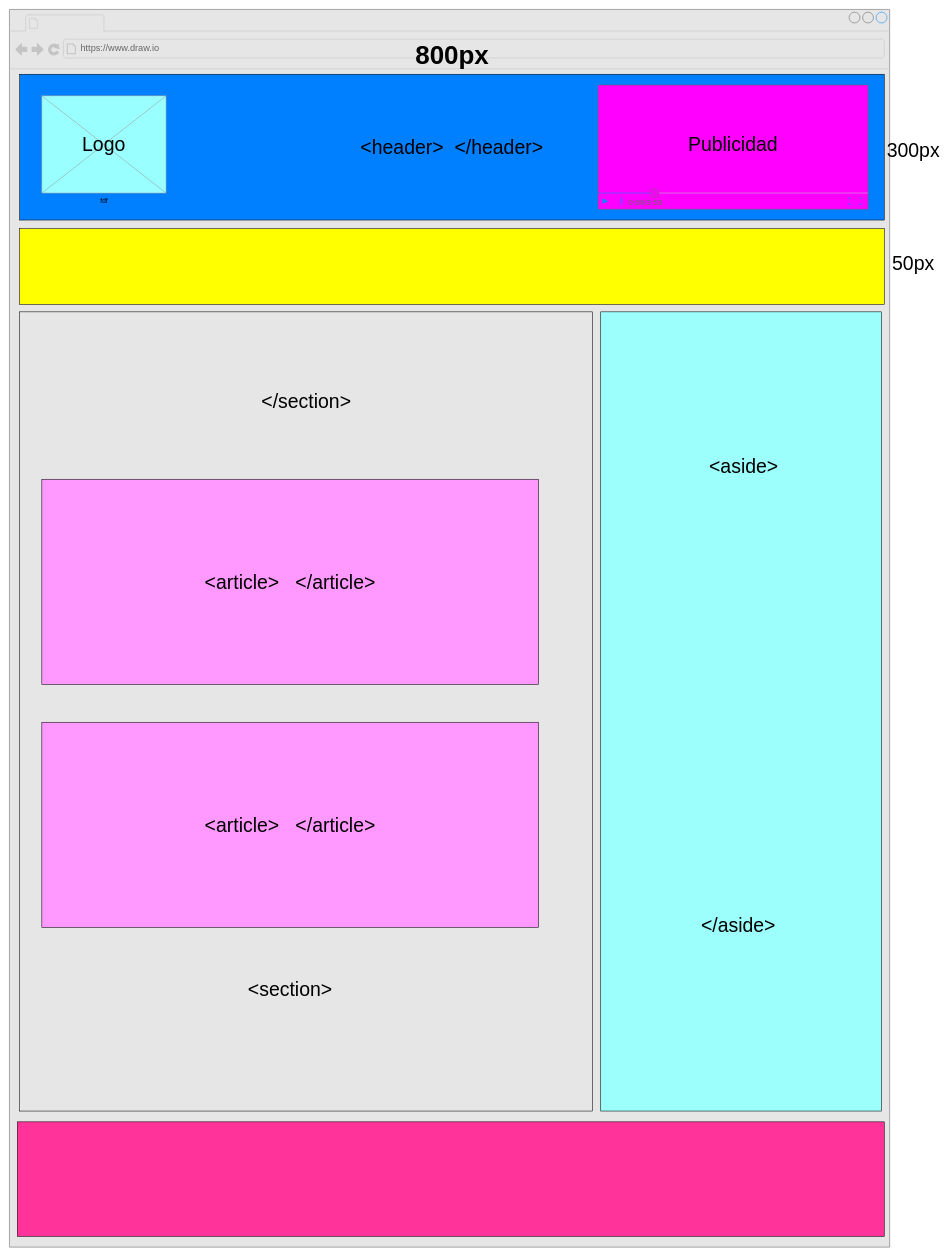
This 949x1257 diagram has some shape labels left out. Each missing label, with the centre of its shape:
"<footer> </footer>" belongs at point (450, 1178).
"<nav> </nav>" belongs at point (451, 266).
"Page 1" belongs at point (71, 22).
